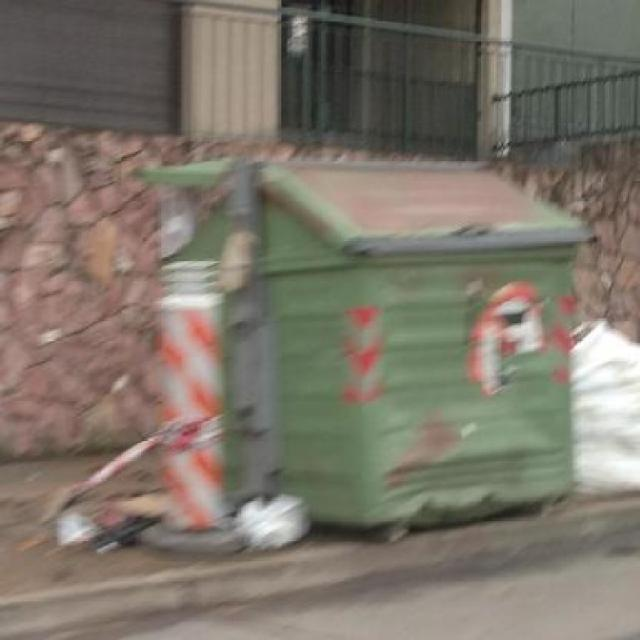garbage: (56, 431, 309, 552), (554, 312, 640, 493)
